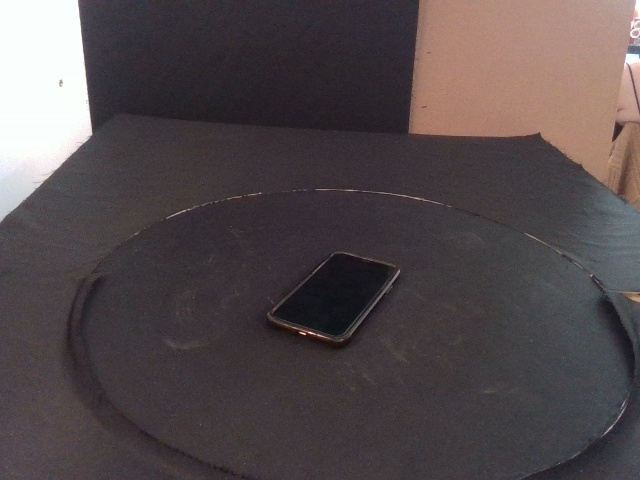phone: (265, 249, 402, 348)
